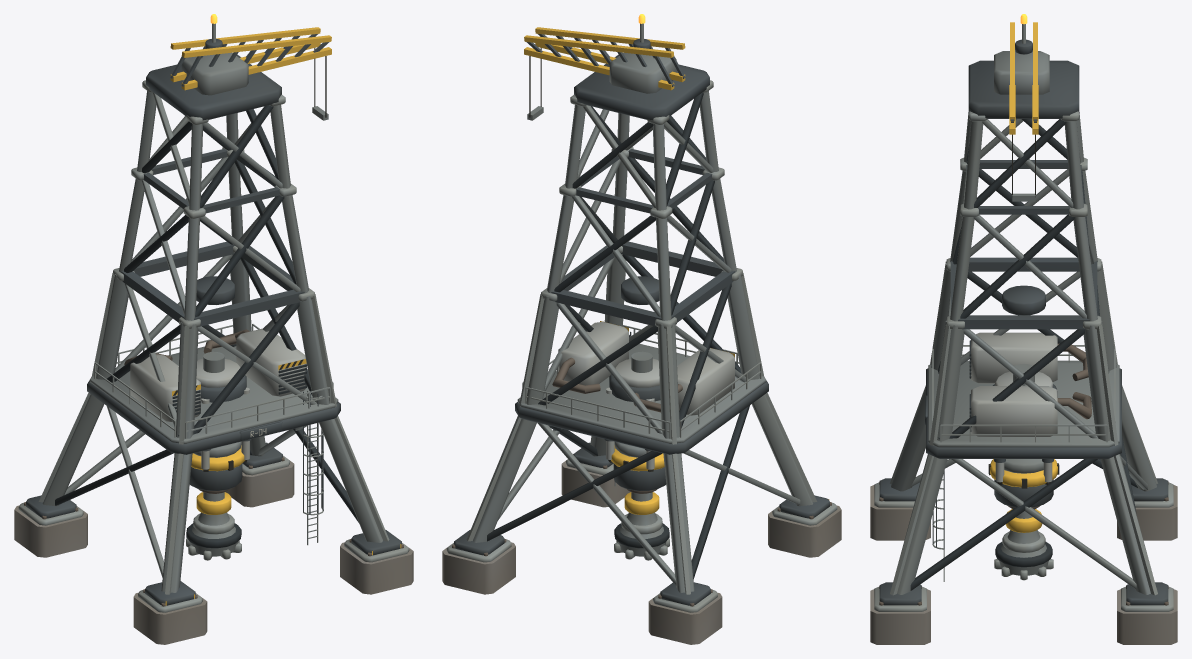
File: mining_drill_tower.glb
3 renders of one model, left to right at view 1: azimuth 30°, elevation 25°; view 2: azimuth 150°, elevation 25°; view 3: azimuth 270°, elevation 25°, orthographic. The views are drawn at different scales.
Visible parts, largest first — view 1: Derrick lattice and raked columns, Machinery deck and access, Foundation, Crown crane and sheaves, Hydraulic rotary head and cutting string; view 2: Derrick lattice and raked columns, Machinery deck and access, Foundation, Crown crane and sheaves, Hydraulic rotary head and cutting string; view 3: Derrick lattice and raked columns, Machinery deck and access, Foundation, Crown crane and sheaves, Hydraulic rotary head and cutting string.
Part boxes in pixels (box(x1,y1,x2,y2)): Derrick lattice and raked columns: box(38, 80, 389, 594); Machinery deck and access: box(87, 324, 340, 545); Foundation: box(14, 442, 413, 644); Crown crane and sheaves: box(146, 14, 331, 440); Hydraulic rotary head and cutting string: box(186, 276, 251, 560); Derrick lattice and raked columns: box(466, 80, 817, 594); Machinery deck and access: box(515, 321, 768, 488); Foundation: box(442, 442, 841, 644); Crown crane and sheaves: box(524, 14, 709, 120); Hydraulic rotary head and cutting string: box(604, 276, 669, 560); Derrick lattice and raked columns: box(890, 111, 1157, 595); Machinery deck and access: box(926, 332, 1121, 581); Foundation: box(870, 478, 1177, 644); Crown crane and sheaves: box(925, 14, 1079, 424); Hydraulic rotary head and cutting string: box(988, 285, 1059, 580).
Bounding box in the file's own units: 16 × 32.45 × 16.
